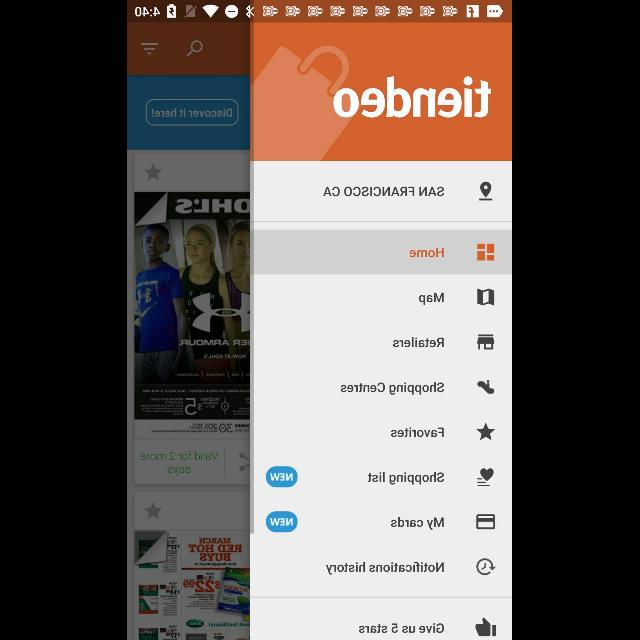icon: (477, 558, 497, 576), (476, 423, 496, 441), (477, 288, 495, 306), (476, 514, 496, 530), (478, 243, 496, 260), (478, 468, 494, 486), (480, 182, 492, 200)
image: (476, 618, 496, 636), (477, 334, 495, 350), (478, 380, 496, 394)
panel: (252, 24, 512, 640)
text: (334, 75, 492, 118), (341, 382, 445, 396), (327, 562, 445, 574), (324, 187, 444, 197), (368, 472, 446, 486), (360, 623, 444, 633), (392, 518, 444, 530), (392, 427, 444, 437), (394, 337, 444, 347), (410, 248, 444, 258), (420, 293, 444, 305)
textbutton: (267, 467, 299, 488), (266, 512, 298, 532)
uppertaskbar: (128, 1, 512, 23)
